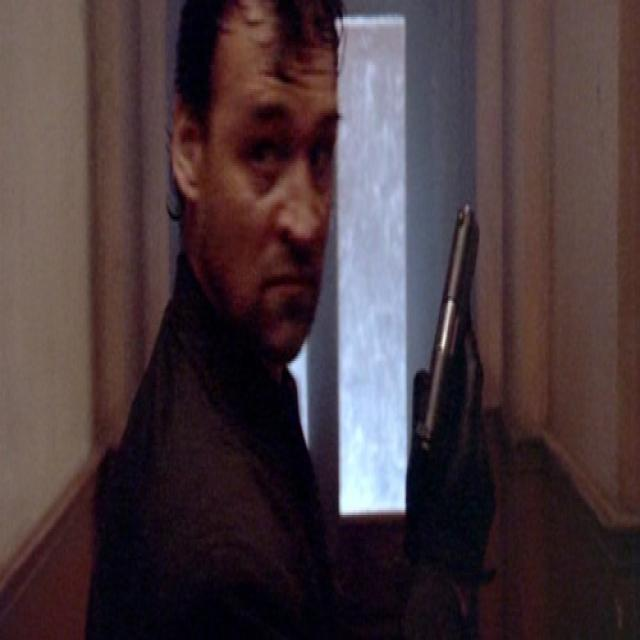weapons: (402, 156, 499, 520)
